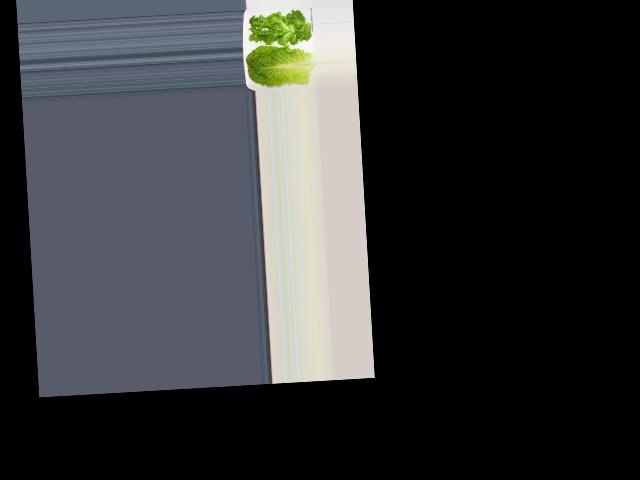lettuce: (247, 5, 309, 46)
